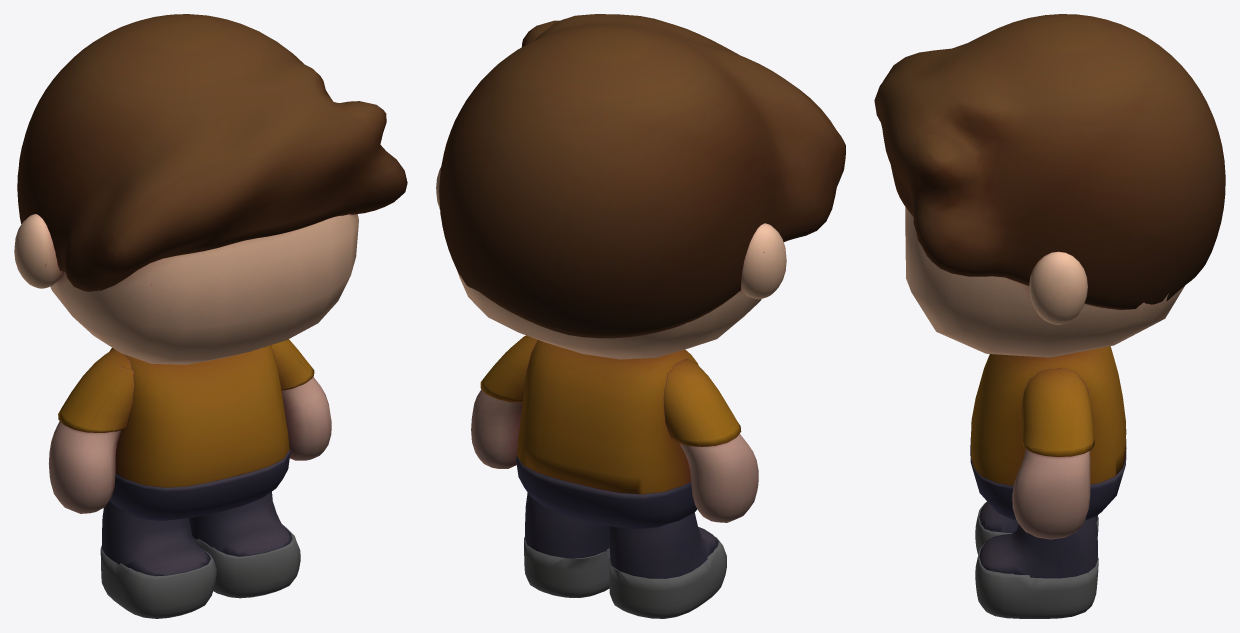
File: npc-joven-1.glb
3 views of the same model, side by side, from view 1: azimuth 30°, elevation 25°; view 2: azimuth 150°, elevation 25°; view 3: azimuth 270°, elevation 25° (orthographic).
Parts seen in each view (by area): view 1: head_pelo, head_piel, body_camiseta, body_pantalon, legL_pantalon, armL_piel, legL_zapatos, armL_camiseta, legR_pantalon, legR_zapatos, armR_piel, armR_camiseta; view 2: head_pelo, body_camiseta, head_piel, body_pantalon, legL_pantalon, armL_piel, armL_camiseta, legL_zapatos, legR_pantalon, legR_zapatos, armR_piel, armR_camiseta; view 3: head_pelo, head_piel, body_camiseta, armR_piel, armR_camiseta, legR_zapatos, legR_pantalon, body_pantalon, legL_pantalon.
Boxes of the visible parts, x1,y1,x2,y2 form: head_pelo: (17,14,407,291); head_piel: (14,214,358,364); body_camiseta: (109,345,289,487); body_pantalon: (110,448,290,520); legL_pantalon: (101,500,210,576); armL_piel: (48,421,121,513); legL_zapatos: (100,545,216,618); armL_camiseta: (58,349,134,432); legR_pantalon: (189,491,291,556); legR_zapatos: (192,524,300,598); armR_piel: (281,377,331,460); armR_camiseta: (271,339,314,390); head_pelo: (439,14,845,338); body_camiseta: (517,340,698,494); head_piel: (436,167,786,359); body_pantalon: (516,455,697,528); legL_pantalon: (608,512,718,578); armL_piel: (679,433,758,522); armL_camiseta: (663,359,741,446); legL_zapatos: (609,537,726,618); legR_pantalon: (525,493,609,558); legR_zapatos: (524,537,610,597); armR_piel: (471,389,522,468); armR_camiseta: (480,335,537,403); head_pelo: (874,14,1225,309); head_piel: (905,207,1185,357); body_camiseta: (971,346,1126,485); armR_piel: (1012,449,1090,539); armR_camiseta: (1021,368,1094,456); legR_zapatos: (975,543,1098,618); legR_pantalon: (979,516,1097,578); body_pantalon: (970,437,1126,521); legL_pantalon: (979,501,1097,532).
Bounding box in the file's own units: 2.93 × 4.57 × 2.62.
5 materials, 5 textured.
